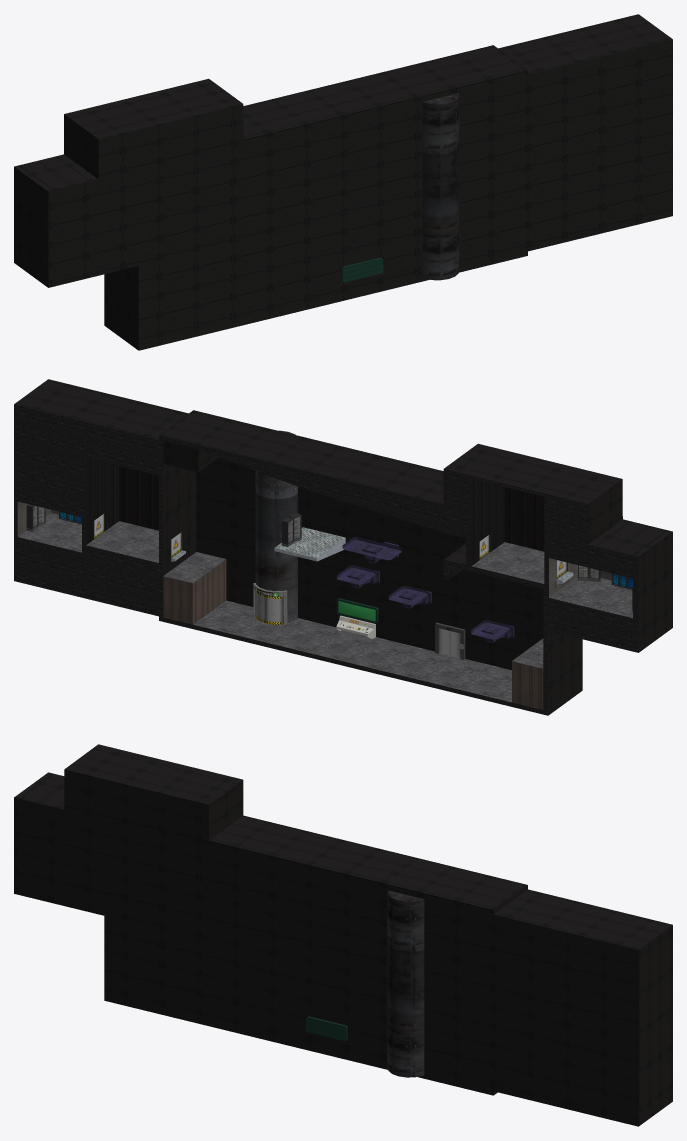
Rendered from boss_fight_room_v1.glb.
3 views of the same model, one above another, from view 1: azimuth 30°, elevation 25°; view 2: azimuth 150°, elevation 25°; view 3: azimuth 330°, elevation 25° (orthographic).
Visible parts, largest first — view 1: BossFightLayout, Cylinder.002, Monitor; view 2: BossFightLayout, Cylinder.002, ServerPlatfrom, Platform, Cylinder.001, Monitor, Platform2.001, Platform2, Platform2.002, ElevatorDoor.001, ControlPanel; view 3: BossFightLayout, Cylinder.002, Monitor.
Boxes of the visible parts, x1,y1,x2,y2 form: BossFightLayout: (14, 14, 672, 350); Cylinder.002: (422, 93, 459, 280); Monitor: (341, 257, 383, 282); BossFightLayout: (14, 379, 672, 715); Cylinder.002: (255, 430, 297, 622); ServerPlatfrom: (274, 527, 345, 561); Platform: (342, 537, 401, 563); Cylinder.001: (255, 591, 283, 624); Monitor: (336, 598, 378, 623); Platform2.001: (471, 620, 514, 642); Platform2: (388, 585, 431, 608); Platform2.002: (336, 565, 379, 587); ElevatorDoor.001: (439, 628, 460, 658); ControlPanel: (336, 615, 375, 638); BossFightLayout: (14, 744, 672, 1126); Cylinder.002: (387, 890, 424, 1077); Monitor: (306, 1016, 347, 1041).
Size of the model in its own units: 26.17 by 8.86 by 3.05.
46 materials, 33 textured.
